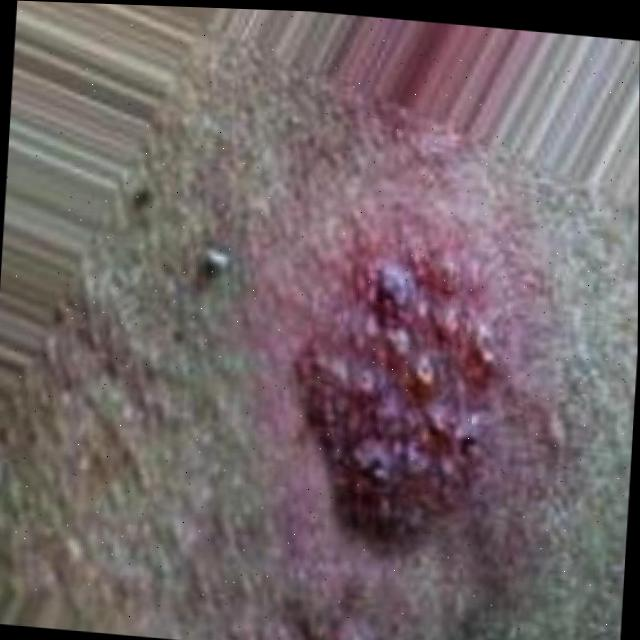Shingles: (312, 236, 500, 526)
